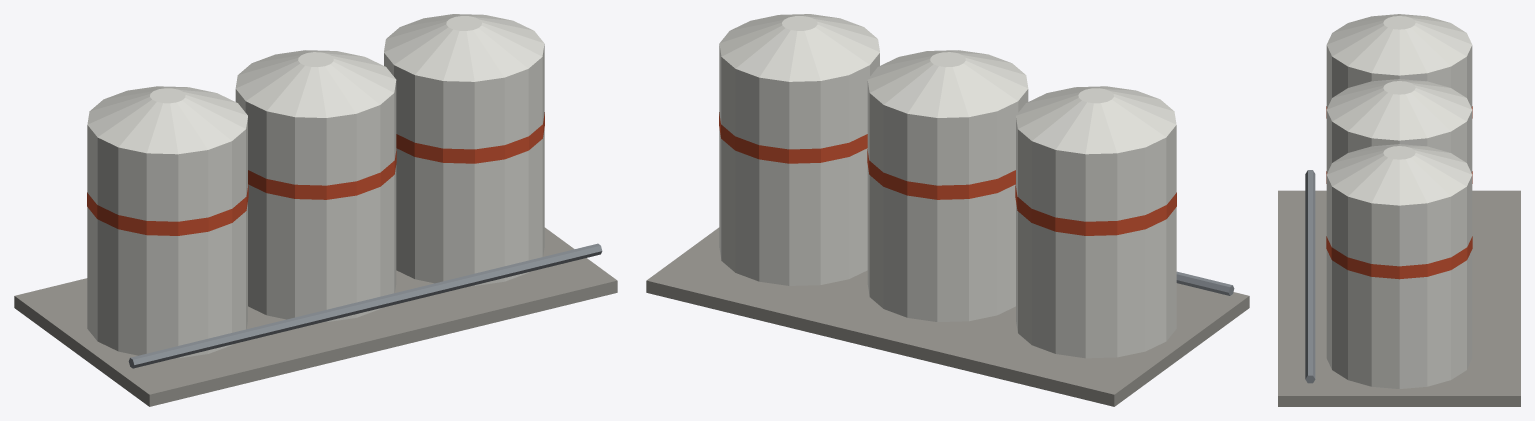
File: bld_in_tanks.glb
The picture shows the model from 3 angles, left to right: view 1: azimuth 30°, elevation 25°; view 2: azimuth 150°, elevation 25°; view 3: azimuth 270°, elevation 25°; orthographic projection. The views are drawn at different scales.
Visible parts, largest first — view 1: bld_in_tanks; view 2: bld_in_tanks; view 3: bld_in_tanks.
Boxes of the visible parts, x1=… form: bld_in_tanks: x1=14, y1=14, x2=617, y2=406; bld_in_tanks: x1=646, y1=14, x2=1249, y2=406; bld_in_tanks: x1=1278, y1=14, x2=1520, y2=406.
Size of what is drawn, in the model's own units: 24 by 11.8 by 12.
